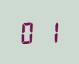one: (39, 20, 58, 43)
zero: (19, 20, 38, 44)
